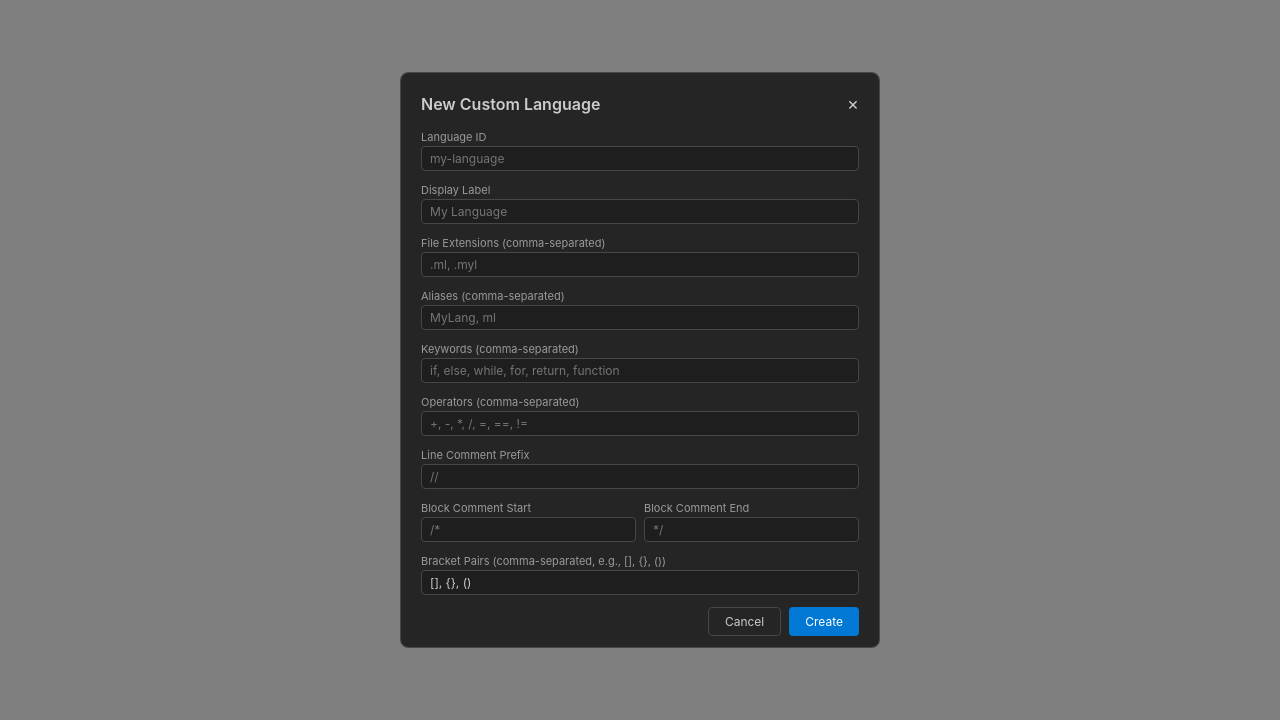
it: CustomLanguageEditorDialogViewPresenter › displays multiple validation errors
The width and height of the screenshot is (1280, 720).
What coordinates should you click on to do the following:
click the button "Create"
I would click on:
 (824, 622)
Its box is [789,607,859,636].
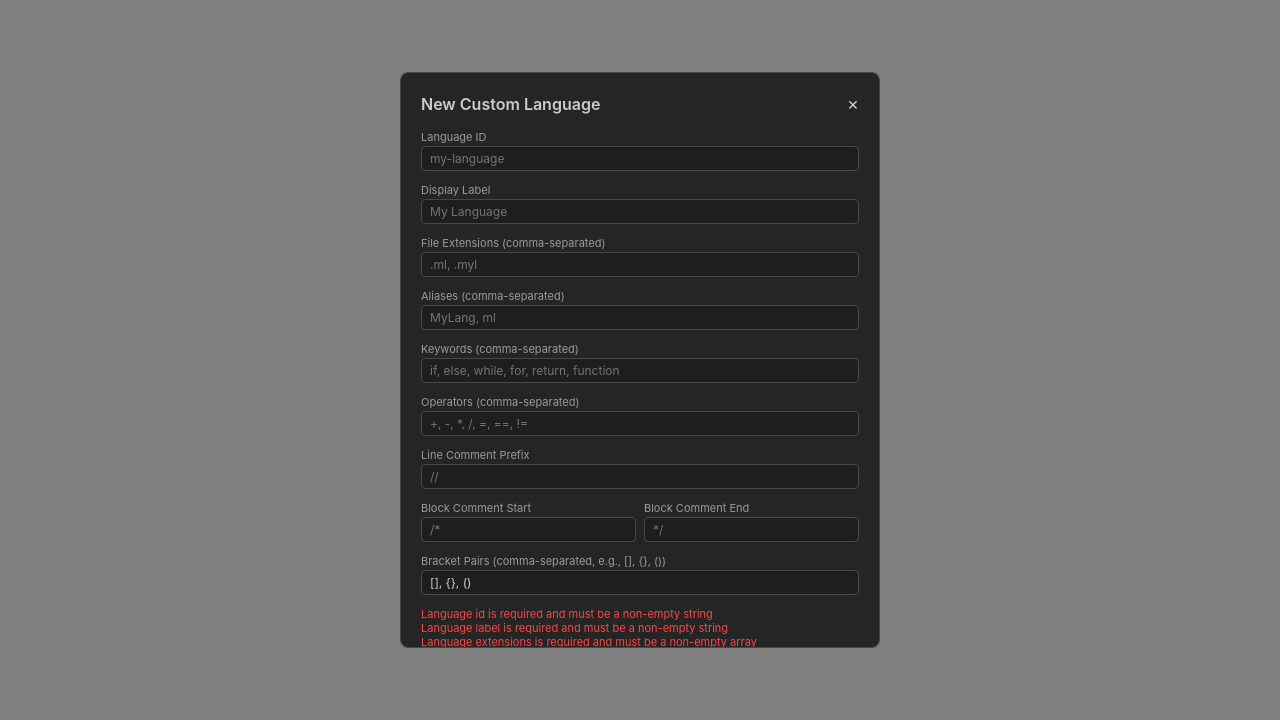
expect the text "Language id is required and must be a non-empty string" is shown: met, box [421,607,713,621]
expect the text "Language label is required and must be a non-empty string" is shown: met, box [421,621,728,635]
expect the text "Language extensions is required and must be a non-empty array" is shown: met, box [421,635,757,648]
